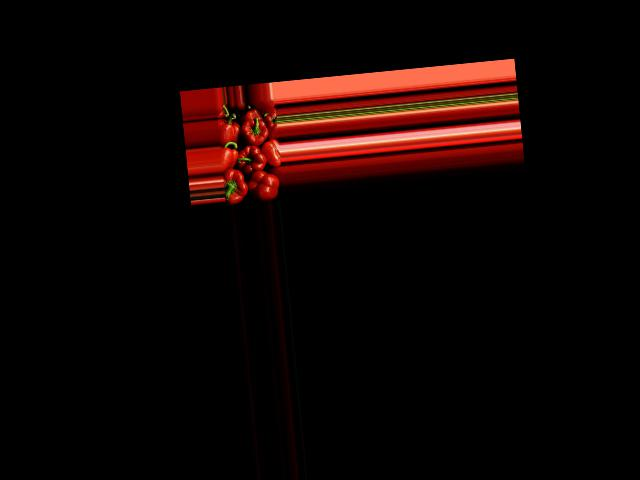bell_pepper: (262, 139, 280, 168)
